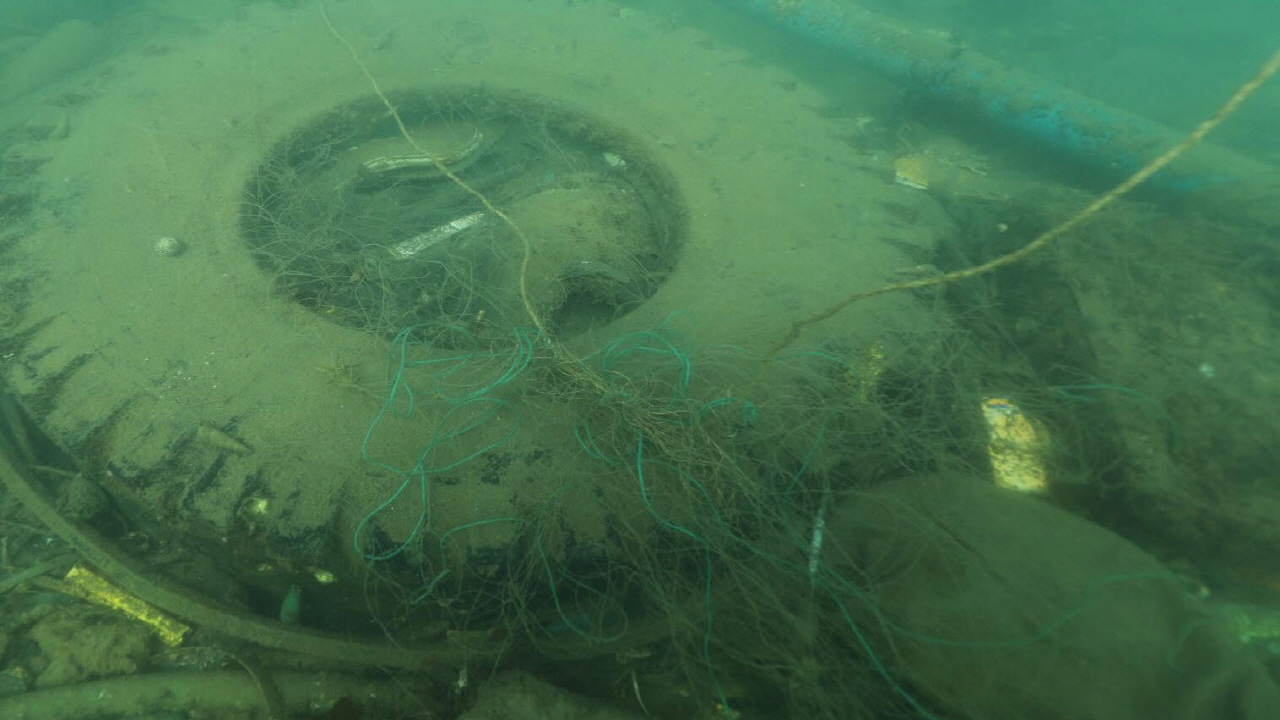tire: (3, 1, 940, 632)
